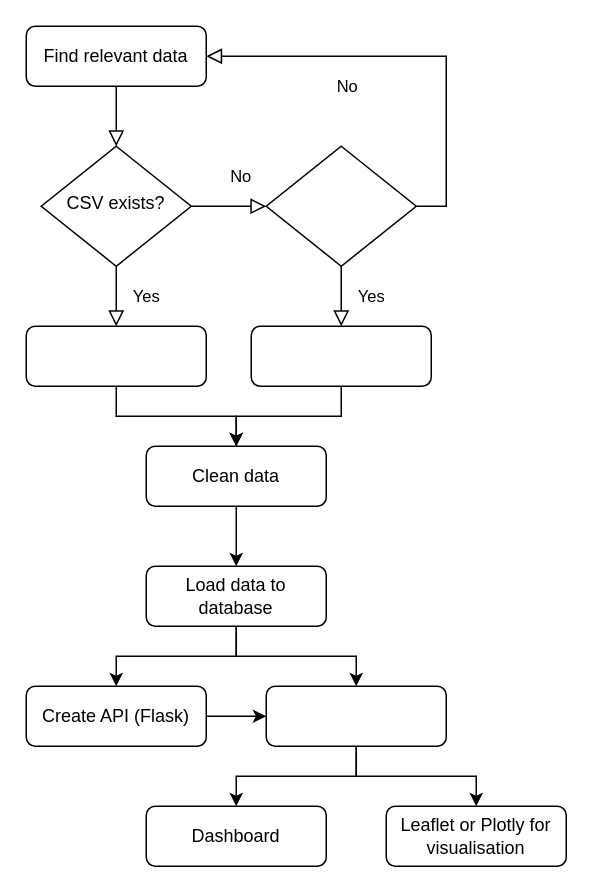
Image size: 593x893. Some labels were removed from this diagram. Here are the shapes that lost their labels. From the top down, the centre of each, then its label:
At point (340, 205): "Scraping allowed?".
At point (115, 355): "Download csv".
At point (340, 355): "Scrape website".
At point (355, 715): "UI with HTML/CSS".
